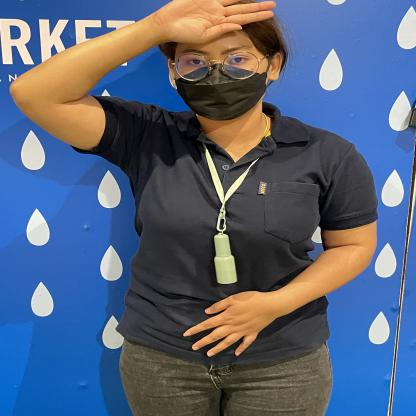Sick: (54, 0, 332, 58)
